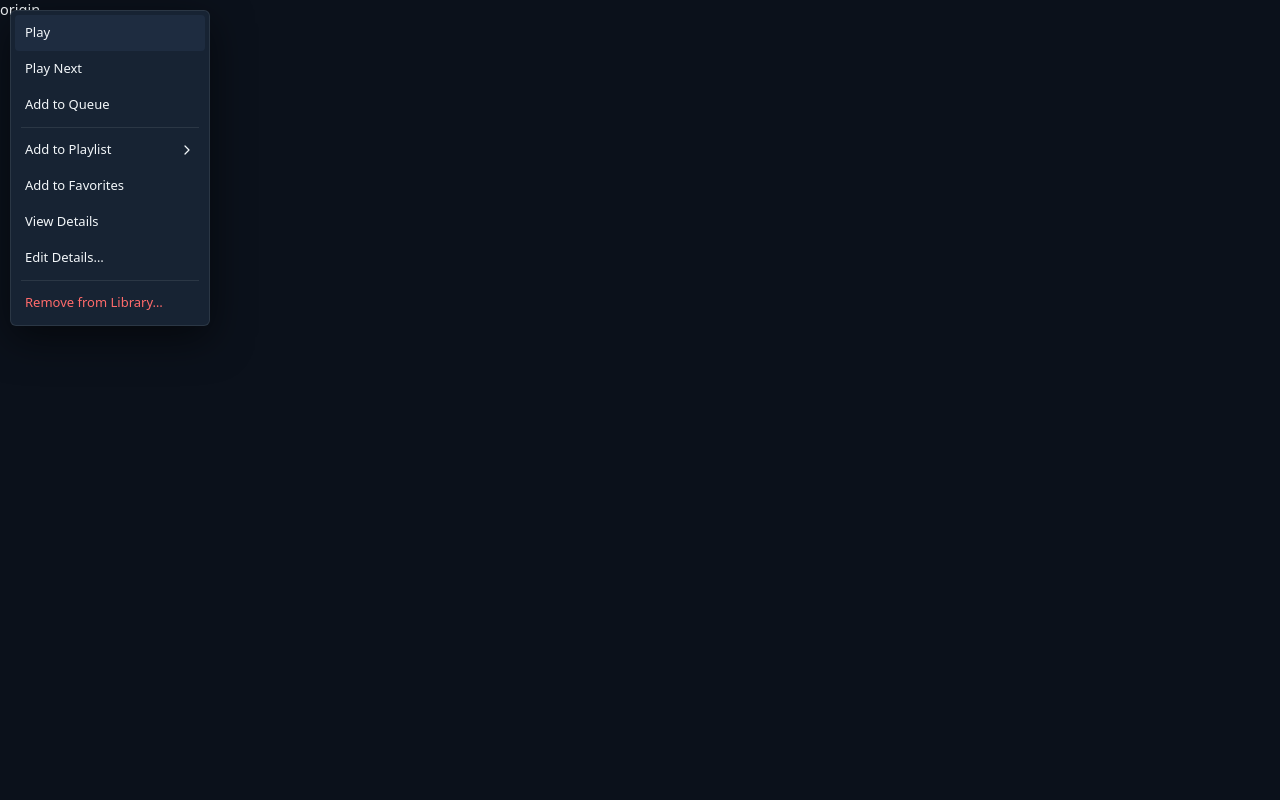
Test: track menu › asks before removing from the library and says files are not touched
Later steps or results of the test are not shown.
Click the menu item "Remove from Library…" at point(110, 303), box 15,285 -> 205,321
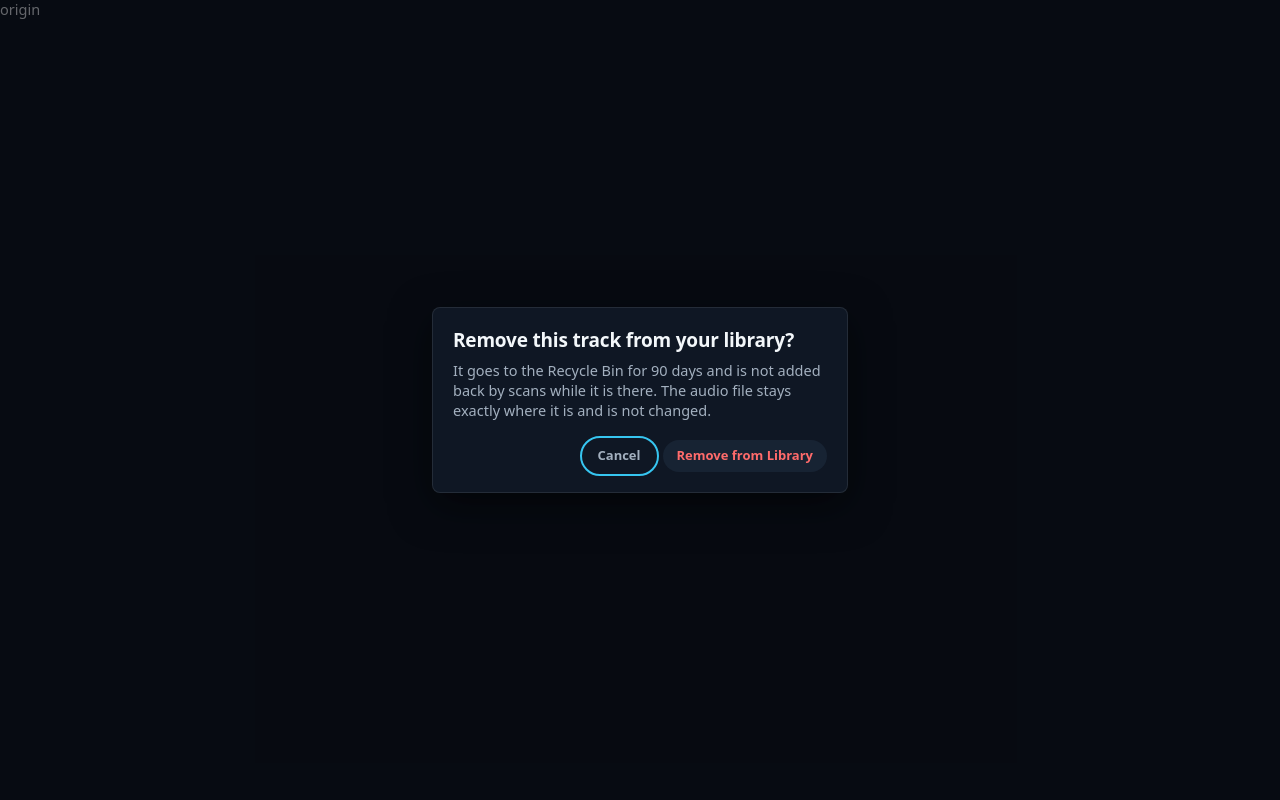
Expected: the text "Remove this track from your library?" shows "The audio file stays exactly where it is", 453,360 -> 821,420
